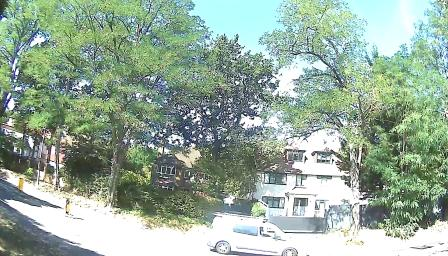Cars: (201, 206, 332, 256)
